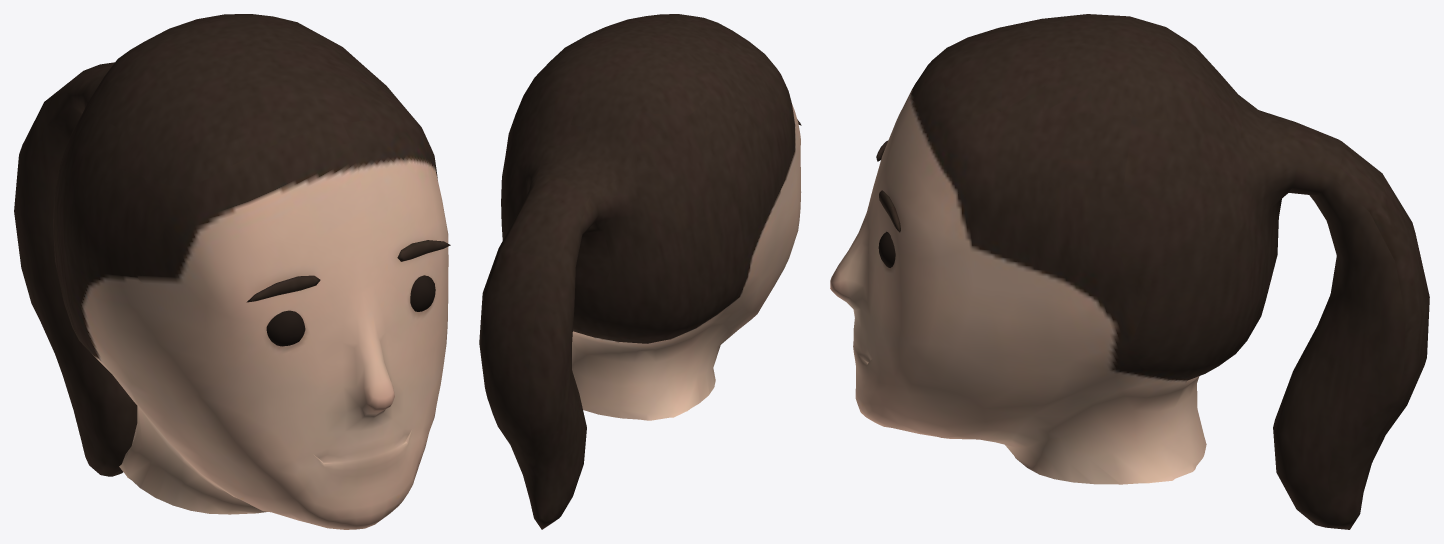
The model's file is PH_NPC__YoungWoman_Head.fbx.
3 renders of one model, left to right at view 1: azimuth 30°, elevation 25°; view 2: azimuth 150°, elevation 25°; view 3: azimuth 270°, elevation 25°, orthographic. The views are drawn at different scales.
Parts seen in each view (by area): view 1: PH_NPC__YoungWoman_Head; view 2: PH_NPC__YoungWoman_Head; view 3: PH_NPC__YoungWoman_Head.
Boxes of the visible parts, x1,y1,x2,y2 form: PH_NPC__YoungWoman_Head: (14, 14, 450, 529); PH_NPC__YoungWoman_Head: (479, 14, 801, 529); PH_NPC__YoungWoman_Head: (830, 14, 1429, 529).
Size of the model in its own units: 0.1948 by 0.3202 by 0.3472.
